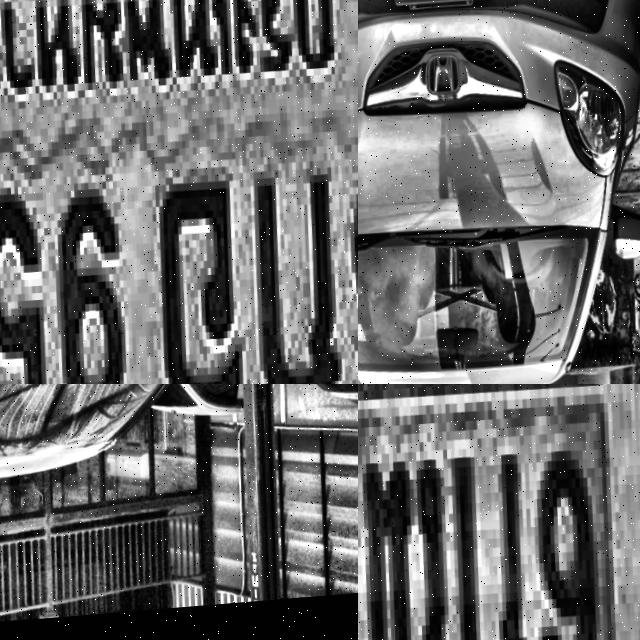license-plate: (0, 0, 358, 384), (358, 384, 640, 640), (388, 0, 487, 17)
